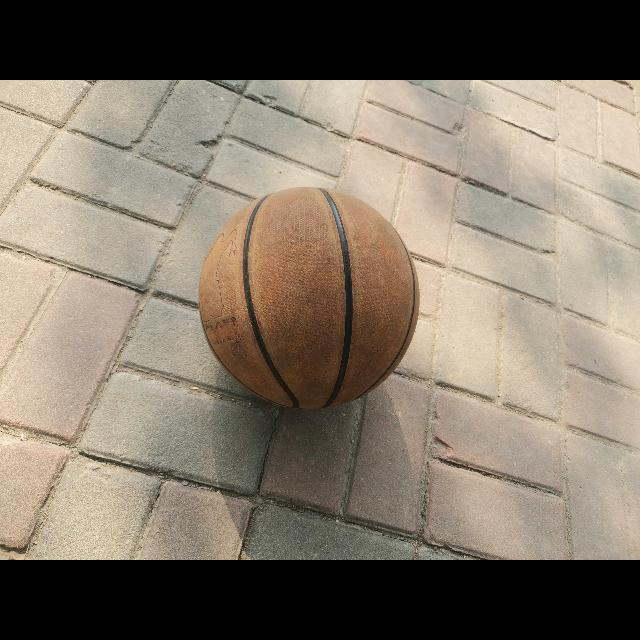basketball: (198, 187, 420, 409)
